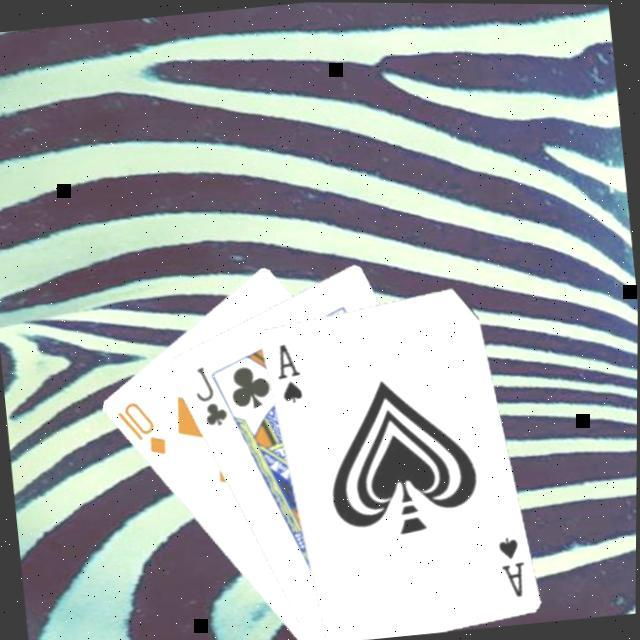10D: (112, 393, 171, 460)
AS: (494, 528, 532, 599), (270, 336, 307, 405)
JC: (188, 358, 233, 430)
